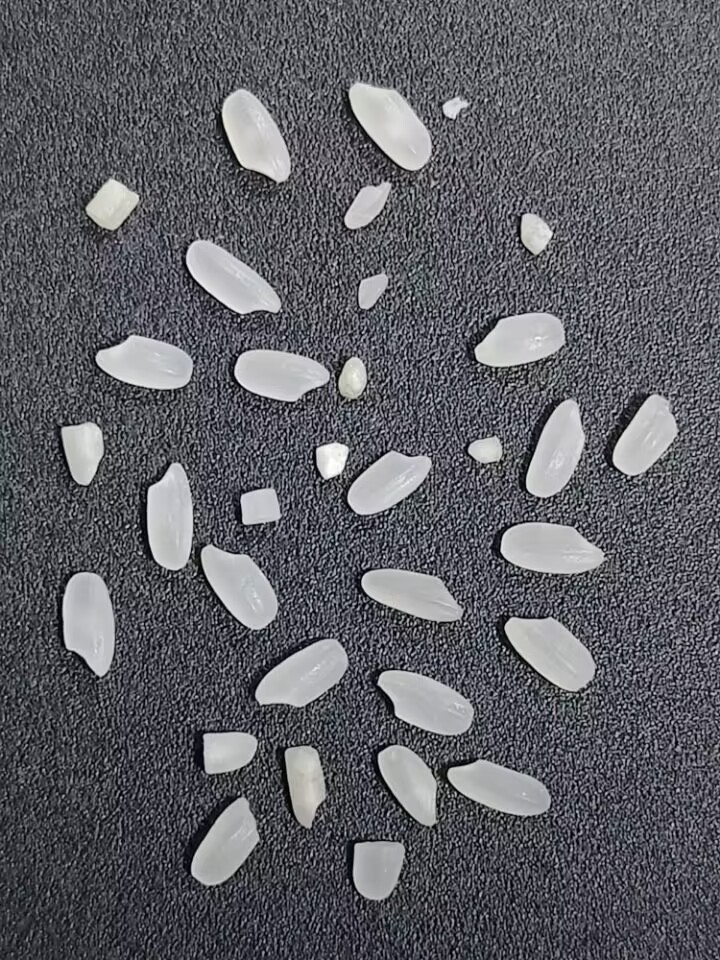broken: (281, 744, 329, 831), (351, 838, 406, 904), (197, 726, 261, 778), (58, 421, 106, 489), (83, 177, 141, 233), (341, 178, 393, 233), (508, 208, 555, 256), (332, 352, 369, 407), (237, 486, 284, 526), (311, 438, 351, 484), (353, 271, 392, 314), (466, 432, 507, 468)
rice: (346, 79, 436, 172), (500, 612, 599, 693), (183, 239, 282, 317), (373, 665, 479, 737), (247, 637, 351, 709), (200, 543, 278, 633), (222, 89, 293, 184), (441, 757, 551, 818), (190, 793, 260, 886), (523, 398, 586, 499), (345, 446, 433, 516), (143, 459, 197, 573), (358, 566, 466, 623), (371, 743, 444, 827), (61, 572, 116, 678), (499, 521, 608, 574), (472, 310, 568, 369), (94, 334, 193, 391), (612, 393, 679, 477), (233, 350, 330, 401)
